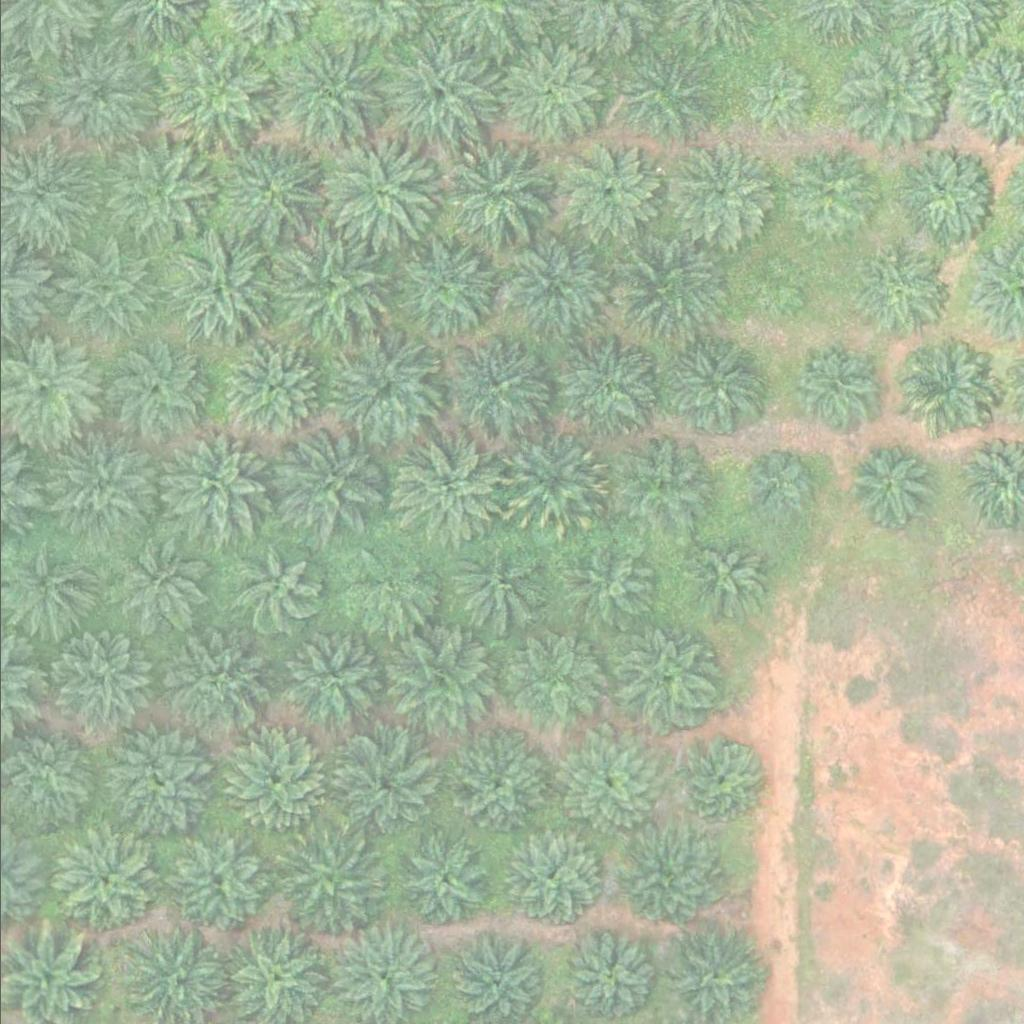Kelapa_Sawit: (274, 39, 388, 152), (98, 137, 212, 250), (550, 728, 664, 841), (438, 732, 552, 845), (274, 829, 388, 942), (43, 230, 157, 343), (495, 426, 608, 539), (654, 329, 767, 442), (382, 40, 495, 153), (321, 134, 434, 247), (212, 136, 325, 249), (391, 430, 504, 543), (274, 425, 387, 538), (152, 429, 265, 542), (44, 627, 157, 740), (149, 40, 263, 152), (546, 330, 659, 442), (617, 231, 730, 343), (495, 229, 608, 341), (41, 36, 154, 148), (441, 137, 554, 249), (388, 227, 501, 339), (272, 226, 385, 338), (158, 234, 271, 346), (325, 329, 438, 441), (101, 333, 214, 445), (44, 432, 157, 544), (381, 630, 494, 742), (273, 628, 386, 740), (324, 732, 437, 844), (100, 731, 213, 843), (610, 434, 711, 534), (847, 245, 948, 345), (898, 143, 999, 243), (779, 147, 880, 247), (671, 139, 772, 239), (560, 139, 661, 239), (841, 44, 942, 144), (615, 46, 716, 146), (499, 44, 600, 144), (445, 335, 546, 435), (222, 338, 323, 438), (161, 636, 262, 736), (225, 734, 326, 834), (611, 831, 712, 931), (168, 836, 269, 936), (53, 829, 154, 929), (893, 335, 993, 435), (612, 627, 712, 727), (502, 640, 602, 740), (503, 831, 603, 931), (392, 834, 492, 934), (841, 439, 929, 527), (679, 534, 767, 622), (449, 545, 537, 633), (559, 550, 647, 637), (789, 341, 877, 428), (345, 549, 433, 636), (231, 544, 319, 631), (115, 545, 203, 632), (676, 735, 764, 822), (735, 57, 810, 132), (746, 452, 809, 515), (743, 254, 806, 316)
